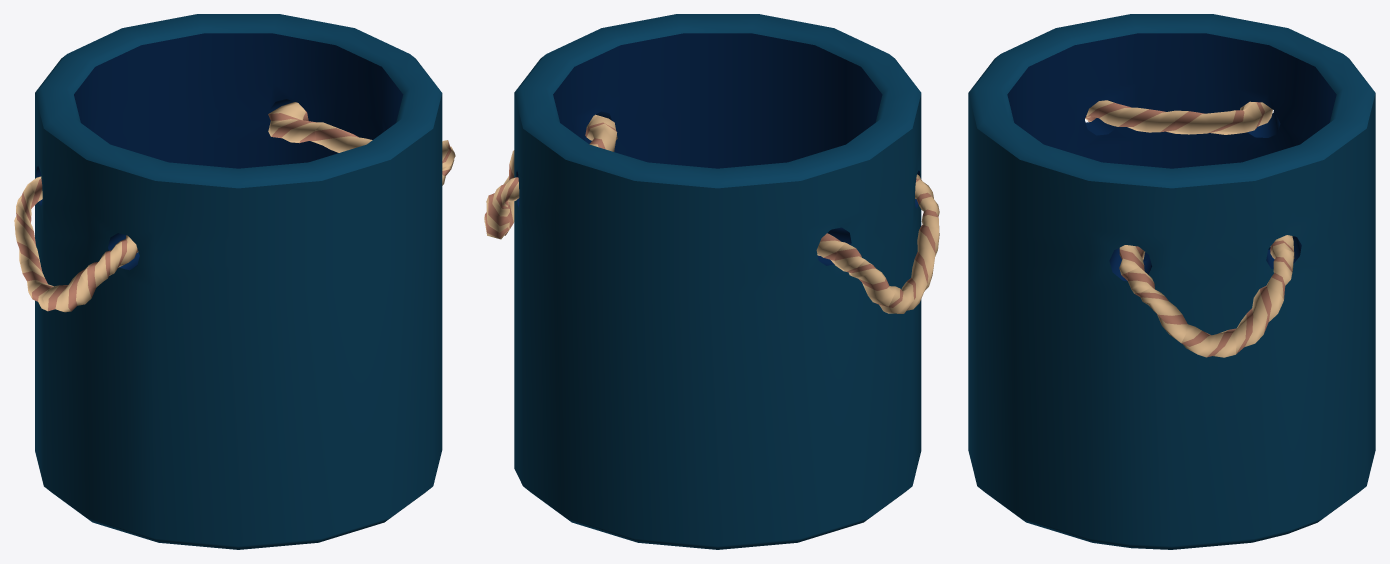
File: Bucket.fbx
The picture shows the model from 3 angles, left to right: view 1: azimuth 30°, elevation 25°; view 2: azimuth 150°, elevation 25°; view 3: azimuth 270°, elevation 25°; orthographic projection.
Parts seen in each view (by area): view 1: BlueBucket_Shell, rope_Med5, rope_Med7; view 2: BlueBucket_Shell, rope_Med5, rope_Med7; view 3: BlueBucket_Shell, rope_Med7, rope_Med5.
Part boxes in pixels (x1=…): BlueBucket_Shell: x1=35, y1=14, x2=442, y2=549; rope_Med5: x1=14, y1=176, x2=138, y2=312; rope_Med7: x1=268, y1=102, x2=455, y2=185; BlueBucket_Shell: x1=514, y1=14, x2=921, y2=549; rope_Med5: x1=816, y1=174, x2=939, y2=313; rope_Med7: x1=484, y1=114, x2=617, y2=239; BlueBucket_Shell: x1=968, y1=14, x2=1375, y2=549; rope_Med7: x1=1119, y1=235, x2=1294, y2=357; rope_Med5: x1=1085, y1=100, x2=1272, y2=134.
Bounding box in the file's own units: 10505 × 9094 × 9044.
